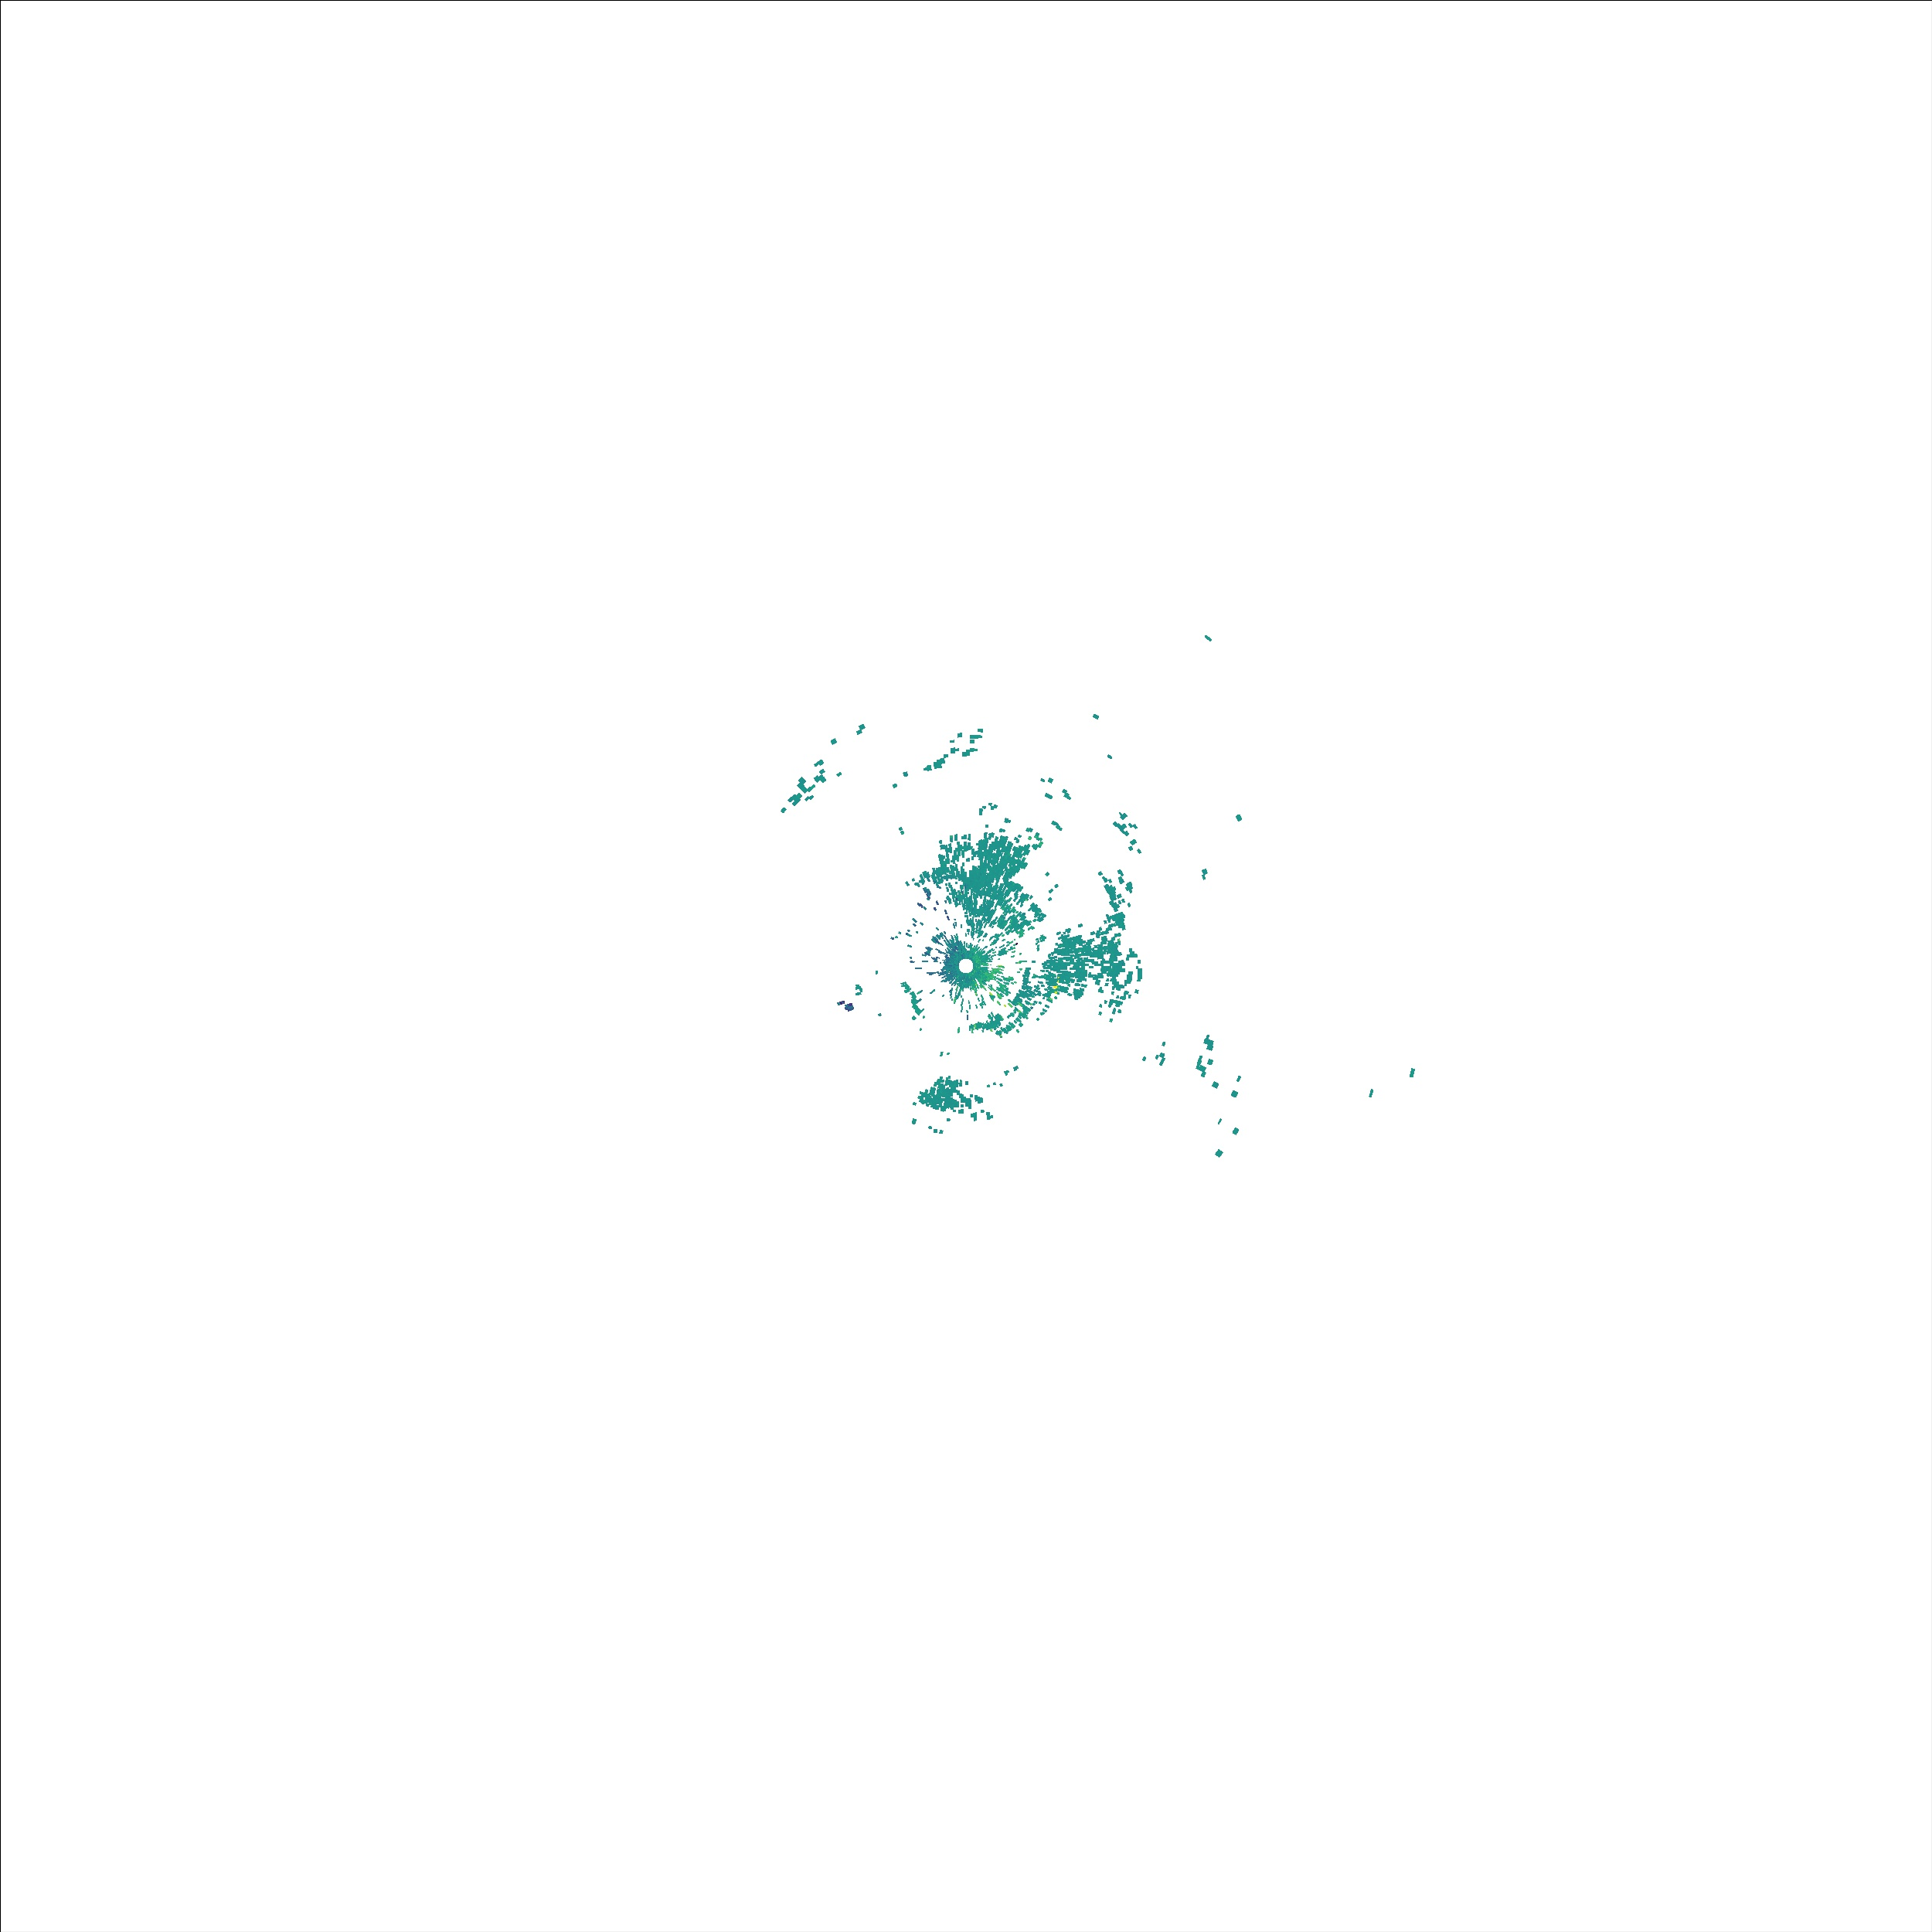fall: (835, 1000, 856, 1014)
